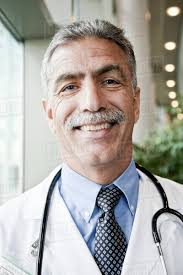middle_eastern_male: (39, 22, 155, 172)
